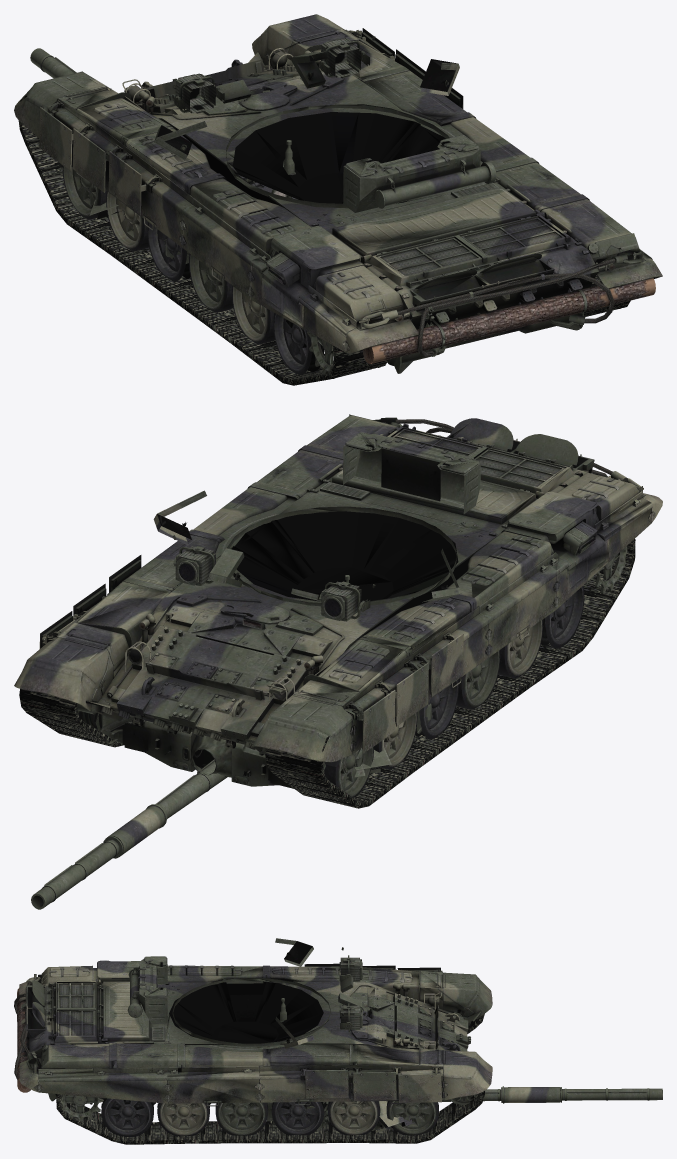
The model's file is mbt_east.glb.
The picture shows the model from 3 angles, top to bottom: view 1: azimuth 30°, elevation 25°; view 2: azimuth 150°, elevation 25°; view 3: azimuth 270°, elevation 25°; orthographic projection. The views are drawn at different scales.
Visible parts, largest first — view 1: hull, turret, gun; view 2: hull, turret, gun; view 3: hull, gun, turret.
Part boxes in pixels (x1,y1,x2,y2): hull: (14,14,662,385); turret: (89,140,297,263); gun: (30,48,76,78); hull: (14,414,662,808); turret: (95,575,432,788); gun: (31,759,227,909); hull: (14,938,492,1144); gun: (442,1086,662,1103); turret: (267,998,414,1132).
Size of the model in its own units: 3.73 by 2.19 by 9.55.
1 material, 1 textured.
